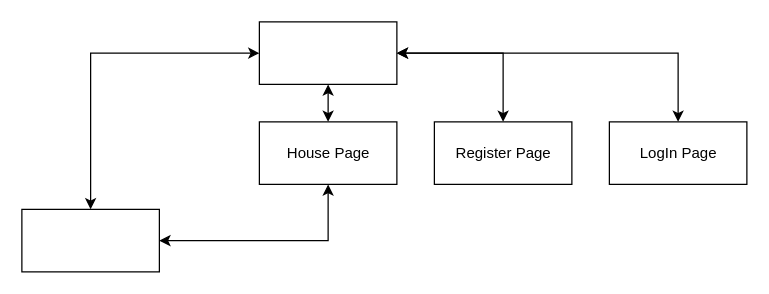
Image size: 769x294. Some labels were removed from this diagram. Here are the shapes that lost their labels. From the top down, the centre of each, then its label:
At (327,52): "Home Page".
At (90,240): "Profile Page".
